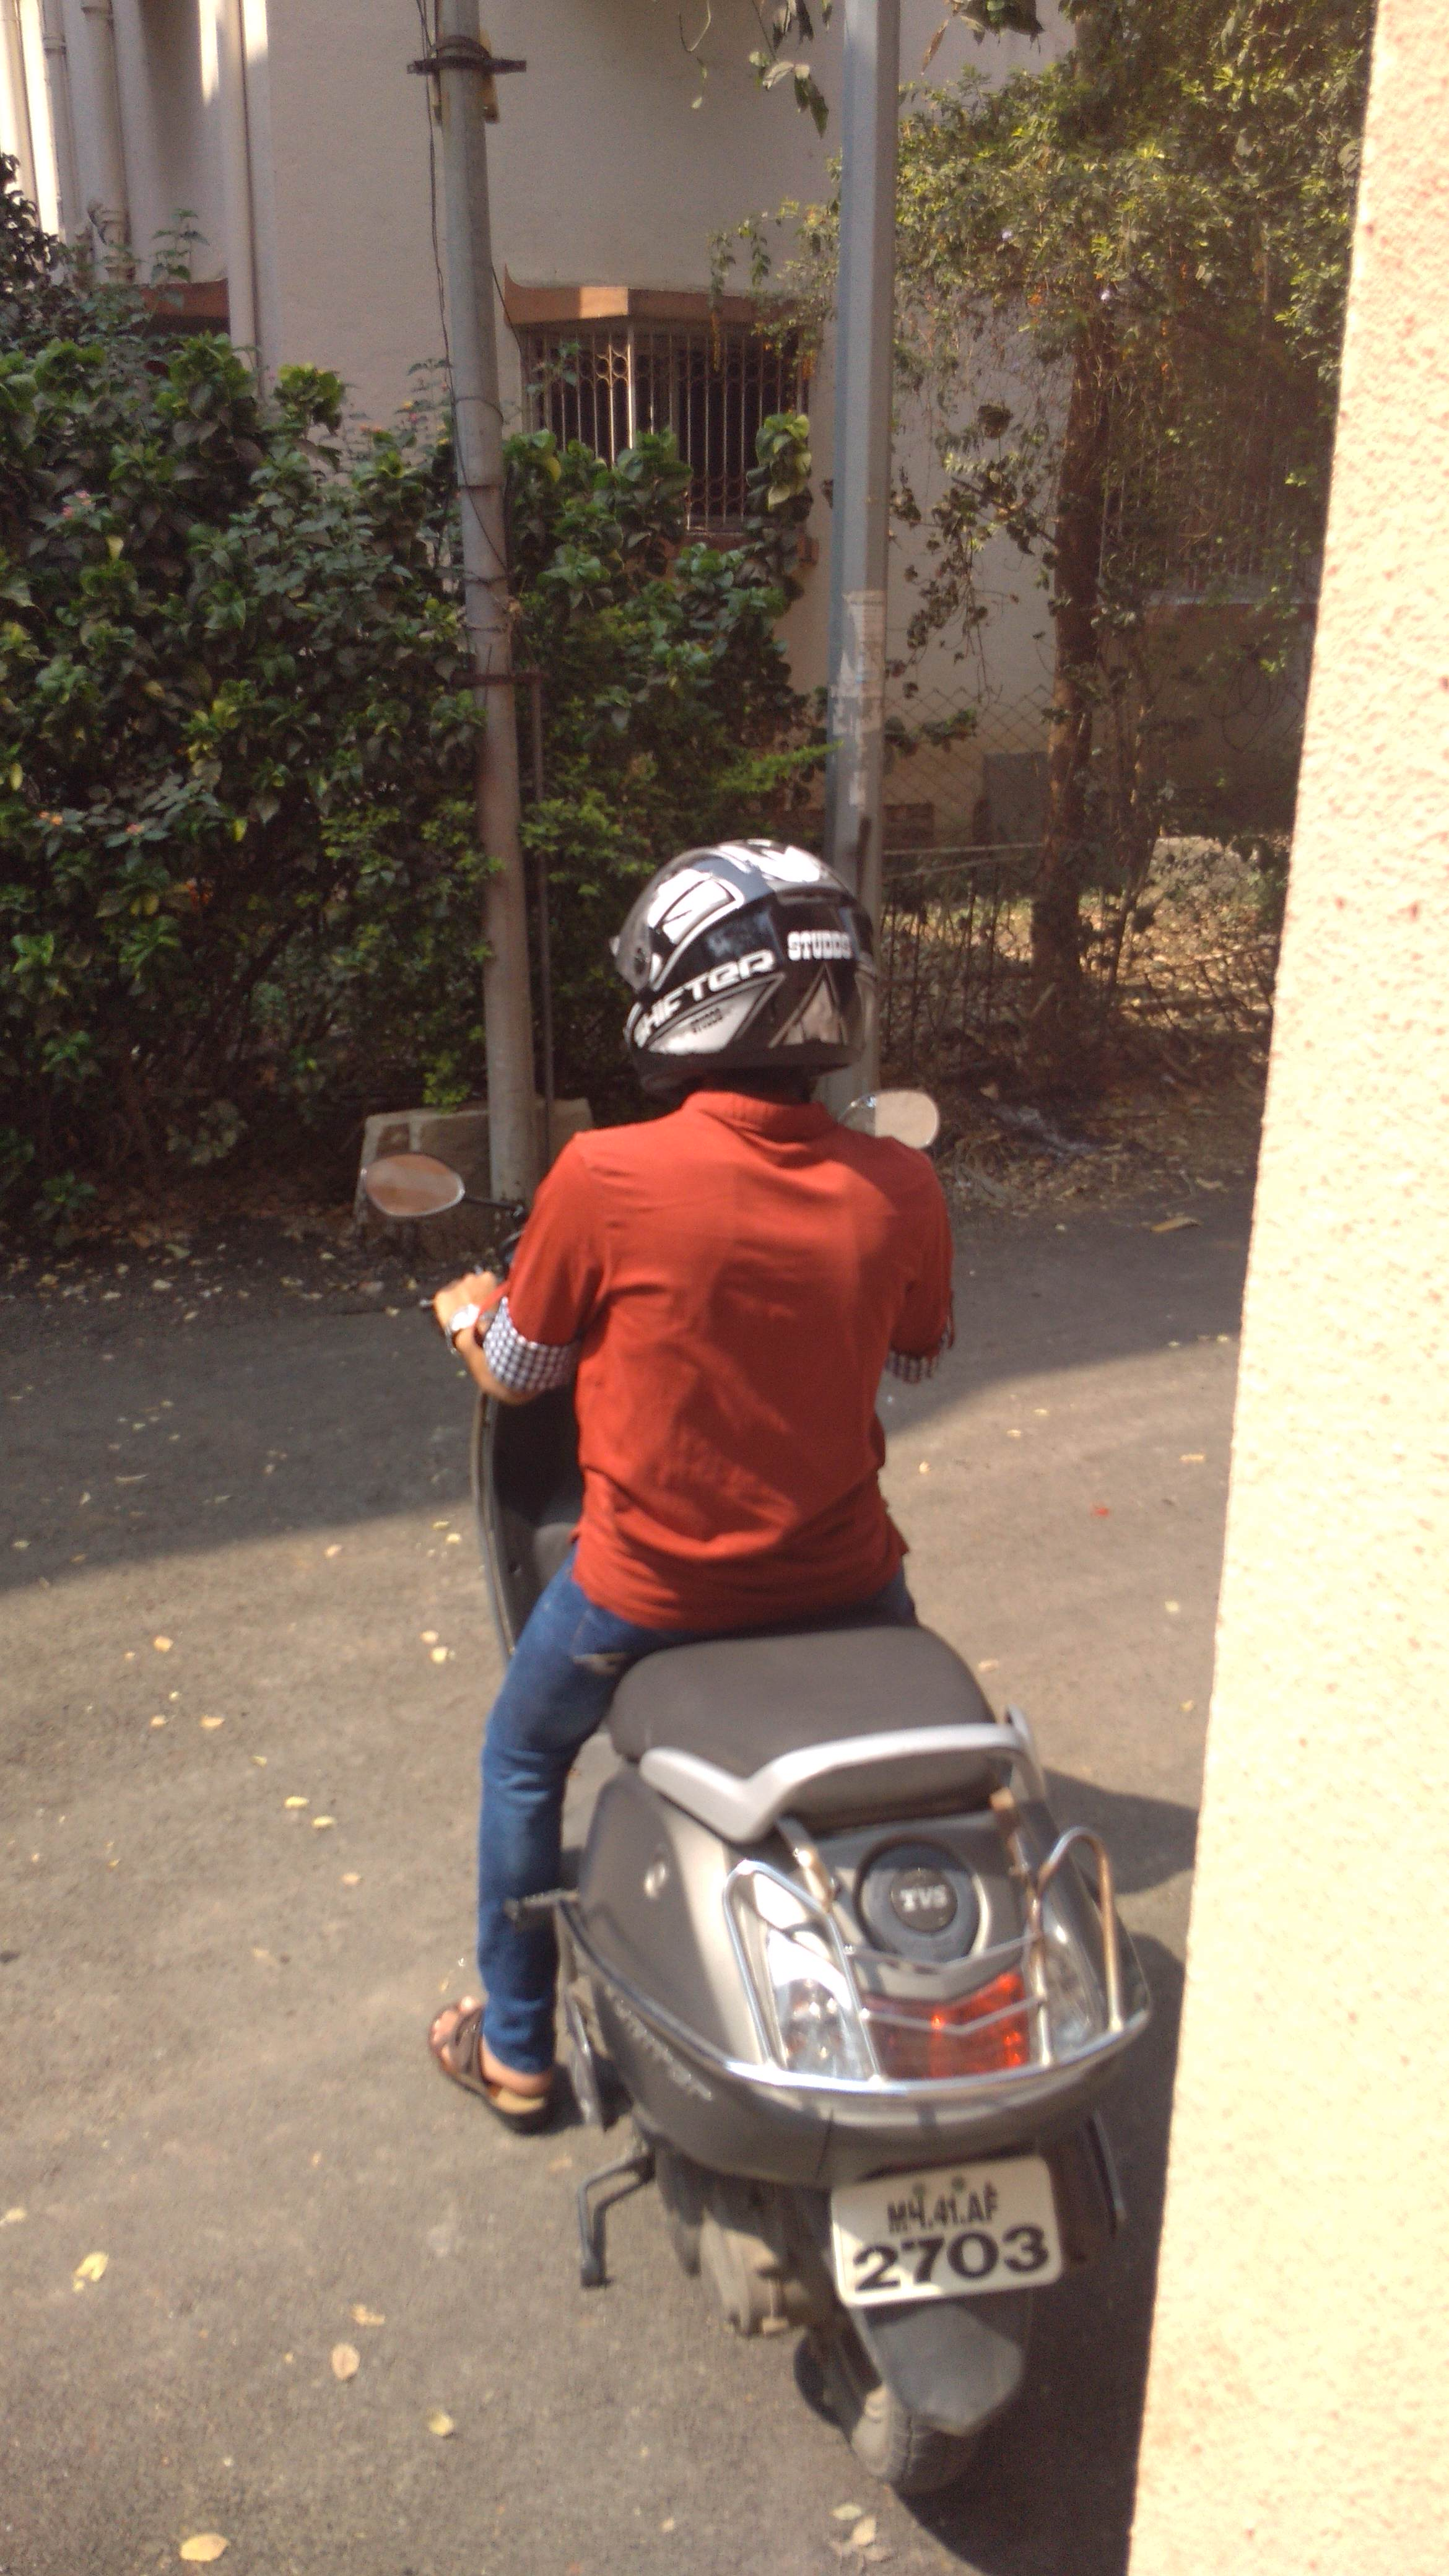helmet: (329, 780, 1067, 2006)
